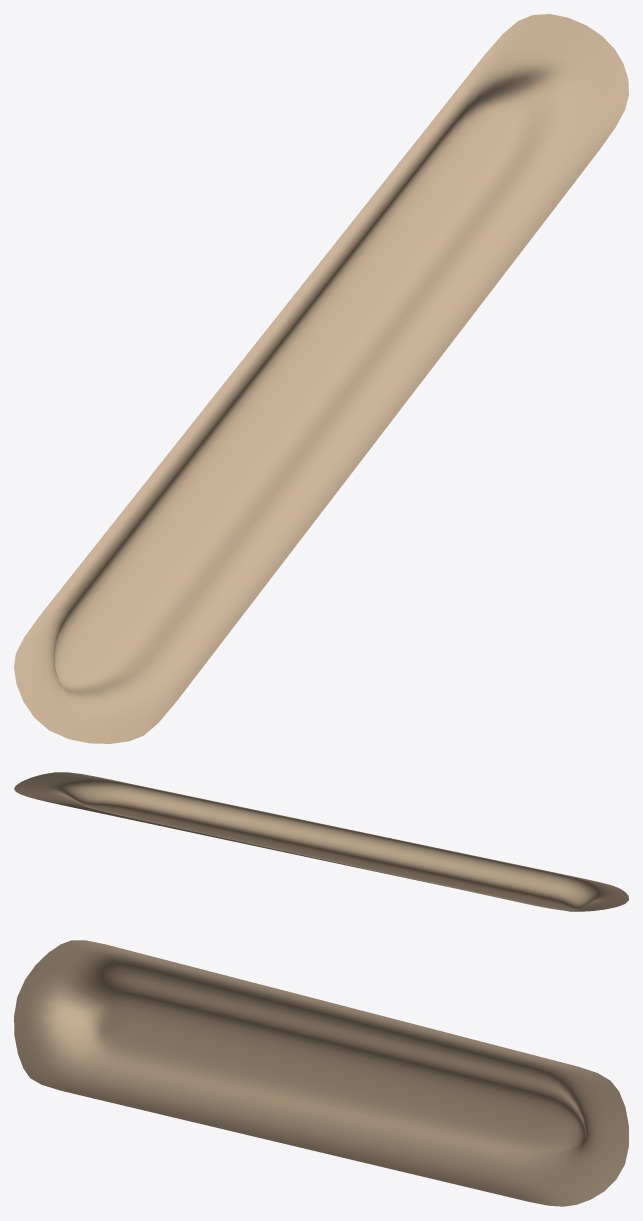
The model's file is Peak_Collar_kaaj.glb.
The picture shows the model from 3 angles, top to bottom: view 1: azimuth 30°, elevation 25°; view 2: azimuth 150°, elevation 25°; view 3: azimuth 270°, elevation 25°; orthographic projection. The views are drawn at different scales.
Parts seen in each view (by area): view 1: Peak collar_kaaj; view 2: Peak collar_kaaj; view 3: Peak collar_kaaj.
Boxes of the visible parts, box(x1,y1,x2,y2) form: Peak collar_kaaj: box(14, 14, 628, 743); Peak collar_kaaj: box(14, 772, 628, 911); Peak collar_kaaj: box(14, 940, 628, 1206).
Size of the model in its own units: 0.00193 by 0.000675 by 0.0012.
